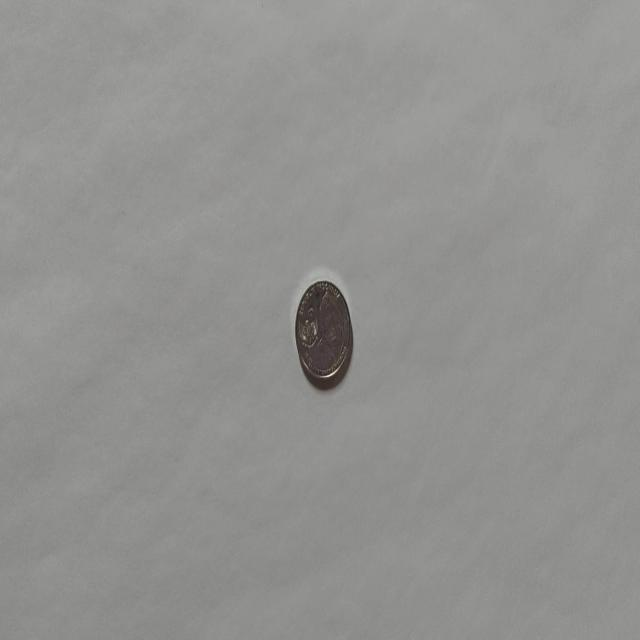dua ratus rupiah: (294, 278, 353, 386)
